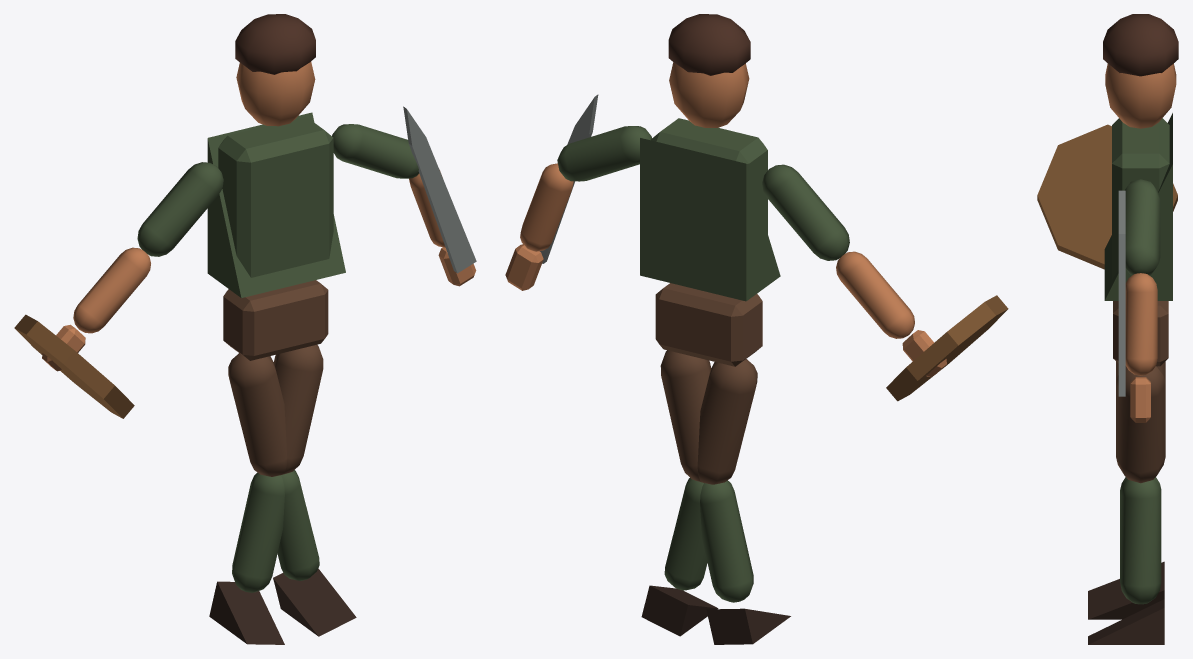
Rendered from adventurer.rustic.glb.
3 renders of one model, left to right at view 1: azimuth 30°, elevation 25°; view 2: azimuth 150°, elevation 25°; view 3: azimuth 270°, elevation 25°, orthographic.
Visible parts, largest first — view 1: torso, pelvis, tunic, thigh.left, shin.right, upper-arm.left, hair, thigh.right, head, sword, shield, forearm.left (+5 smaller); view 2: tunic, pelvis, thigh.left, shin.right, upper-arm.left, hair, thigh.right, head, torso, upper-arm.right, forearm.left, shield (+7 smaller); view 3: shield, shin.left, thigh.right, torso, hair, head, upper-arm.right, forearm.right, tunic, foot.left, foot.right, sword (+2 smaller).
Part boxes in pixels (box(x1,y1,x2,y2)): torso: box(218, 116, 333, 277); pelvis: box(223, 280, 328, 360); tunic: box(207, 112, 345, 297); thigh.left: box(228, 353, 287, 476); shin.right: box(232, 472, 284, 592); upper-arm.left: box(137, 162, 223, 256); hair: box(235, 14, 315, 74); thigh.right: box(273, 344, 323, 475); head: box(236, 61, 315, 126); sword: box(403, 106, 476, 273); shield: box(14, 314, 134, 418); forearm.left: box(73, 247, 150, 333); tunic: box(640, 138, 780, 301); pelvis: box(655, 283, 762, 366); thigh.left: box(697, 359, 757, 484); shin.right: box(700, 480, 753, 602); upper-arm.left: box(762, 164, 849, 260); hair: box(668, 14, 750, 75); thigh.right: box(660, 350, 711, 482); head: box(669, 62, 749, 127); torso: box(651, 118, 767, 233); upper-arm.right: box(557, 126, 651, 181); forearm.left: box(836, 251, 914, 338); shield: box(886, 295, 1008, 401); shield: box(1037, 124, 1177, 269); shin.left: box(1120, 479, 1161, 604); thigh.right: box(1116, 366, 1165, 483); torso: box(1112, 118, 1169, 279); hair: box(1103, 14, 1178, 76); head: box(1105, 63, 1176, 128); upper-arm.right: box(1125, 179, 1160, 275); forearm.right: box(1125, 273, 1157, 375); tunic: box(1104, 113, 1172, 300); foot.left: box(1088, 599, 1164, 644); foot.right: box(1088, 561, 1164, 619); sword: box(1118, 190, 1125, 396).
Size of the model in its own units: 2.61 by 3.25 by 0.6826.
